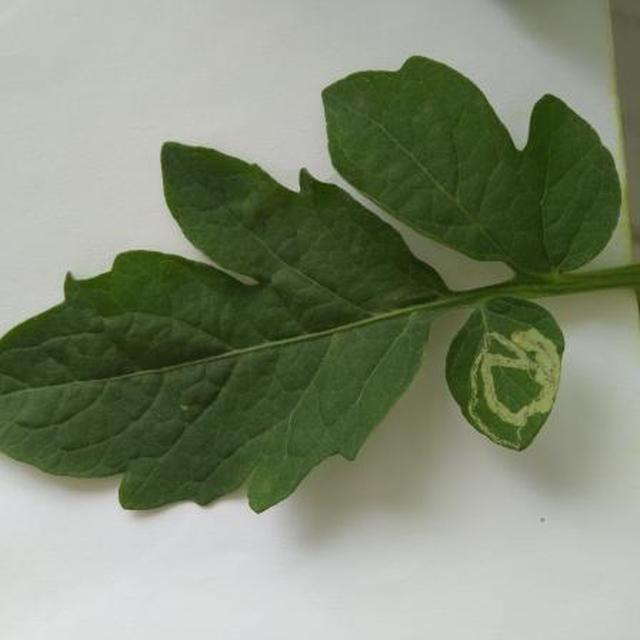Leaf Miner: (179, 219, 640, 539)
